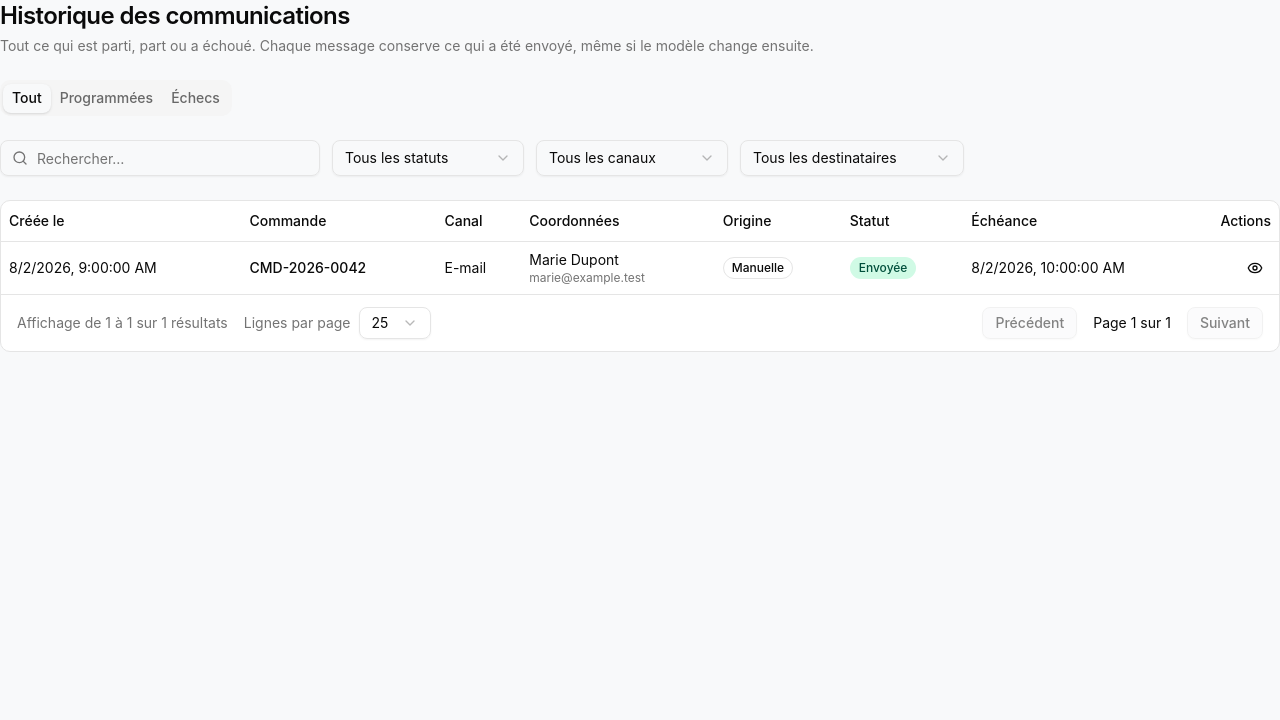
historique des communications › ouvre le détail sans recalculer le contenu envoyé
The width and height of the screenshot is (1280, 720).
Click the button named "Consulter" at {"x": 1255, "y": 268}, box [1239,252,1271,284]
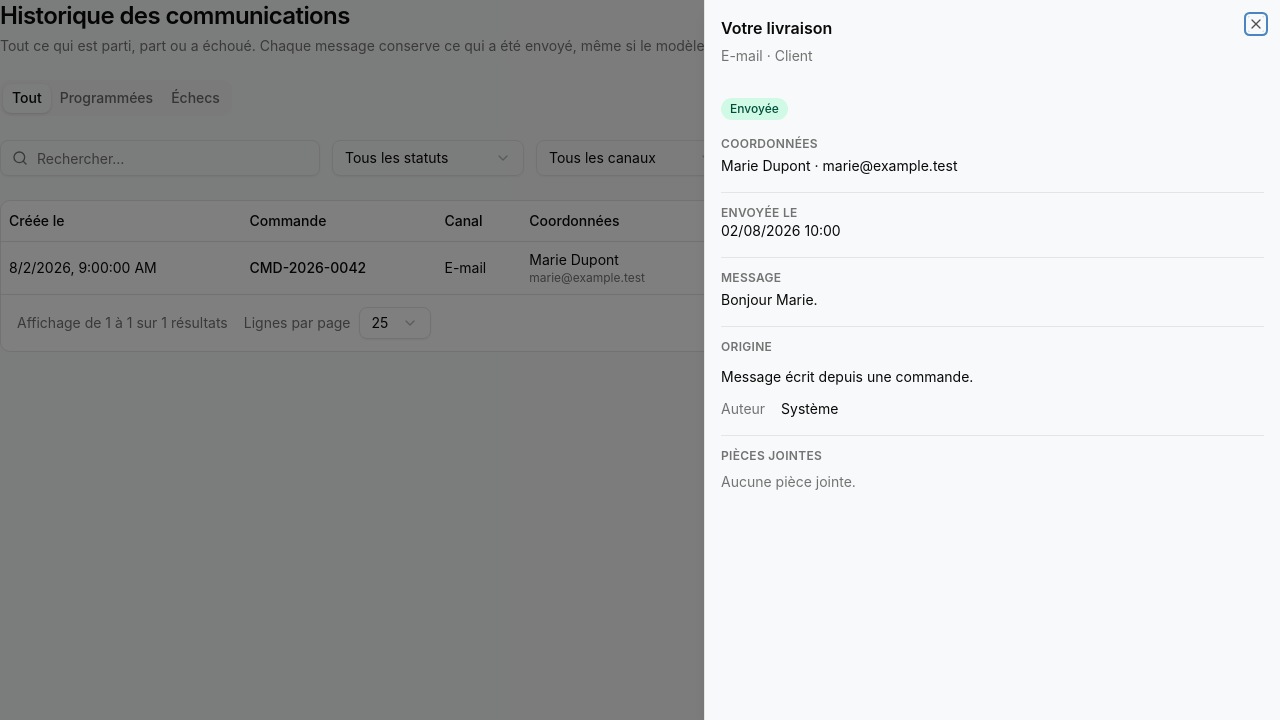
expect the text "Bonjour Marie." is shown: met, box [721,291,818,308]
